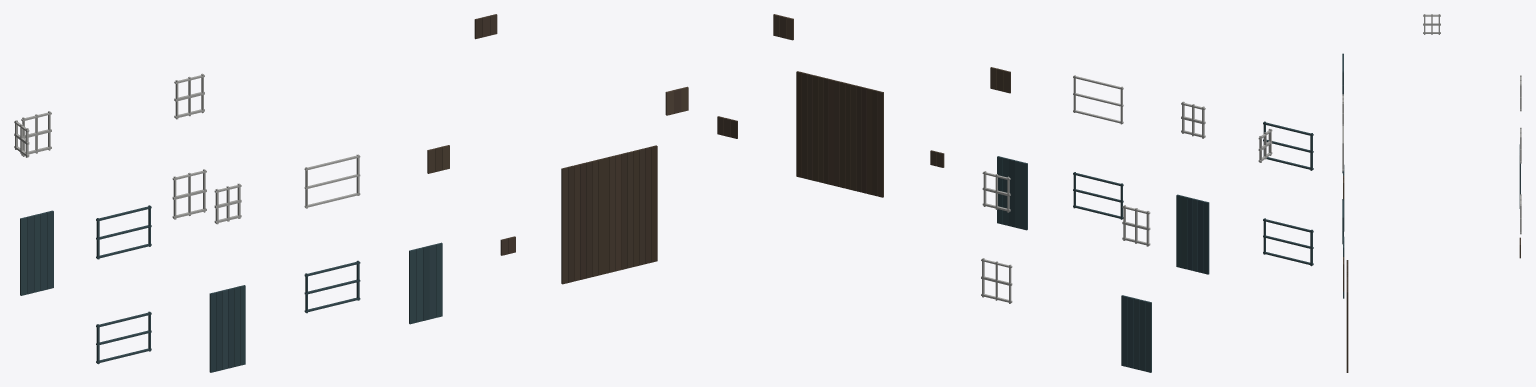
Rendered from SM_Bld_033_Wood.glb.
3 views of the same model, side by side, from view 1: azimuth 30°, elevation 25°; view 2: azimuth 150°, elevation 25°; view 3: azimuth 270°, elevation 25° (orthographic). The views are drawn at different scales.
Parts seen in each view (by area): view 1: SM_Bld_033_Wood; view 2: SM_Bld_033_Wood; view 3: SM_Bld_033_Wood.
Part boxes in pixels (bbox=[...]): SM_Bld_033_Wood: bbox=[14, 14, 688, 372]; SM_Bld_033_Wood: bbox=[717, 14, 1313, 372]; SM_Bld_033_Wood: bbox=[1342, 14, 1521, 372].
Bounding box in the file's own units: 16.47 × 6.05 × 6.06.
